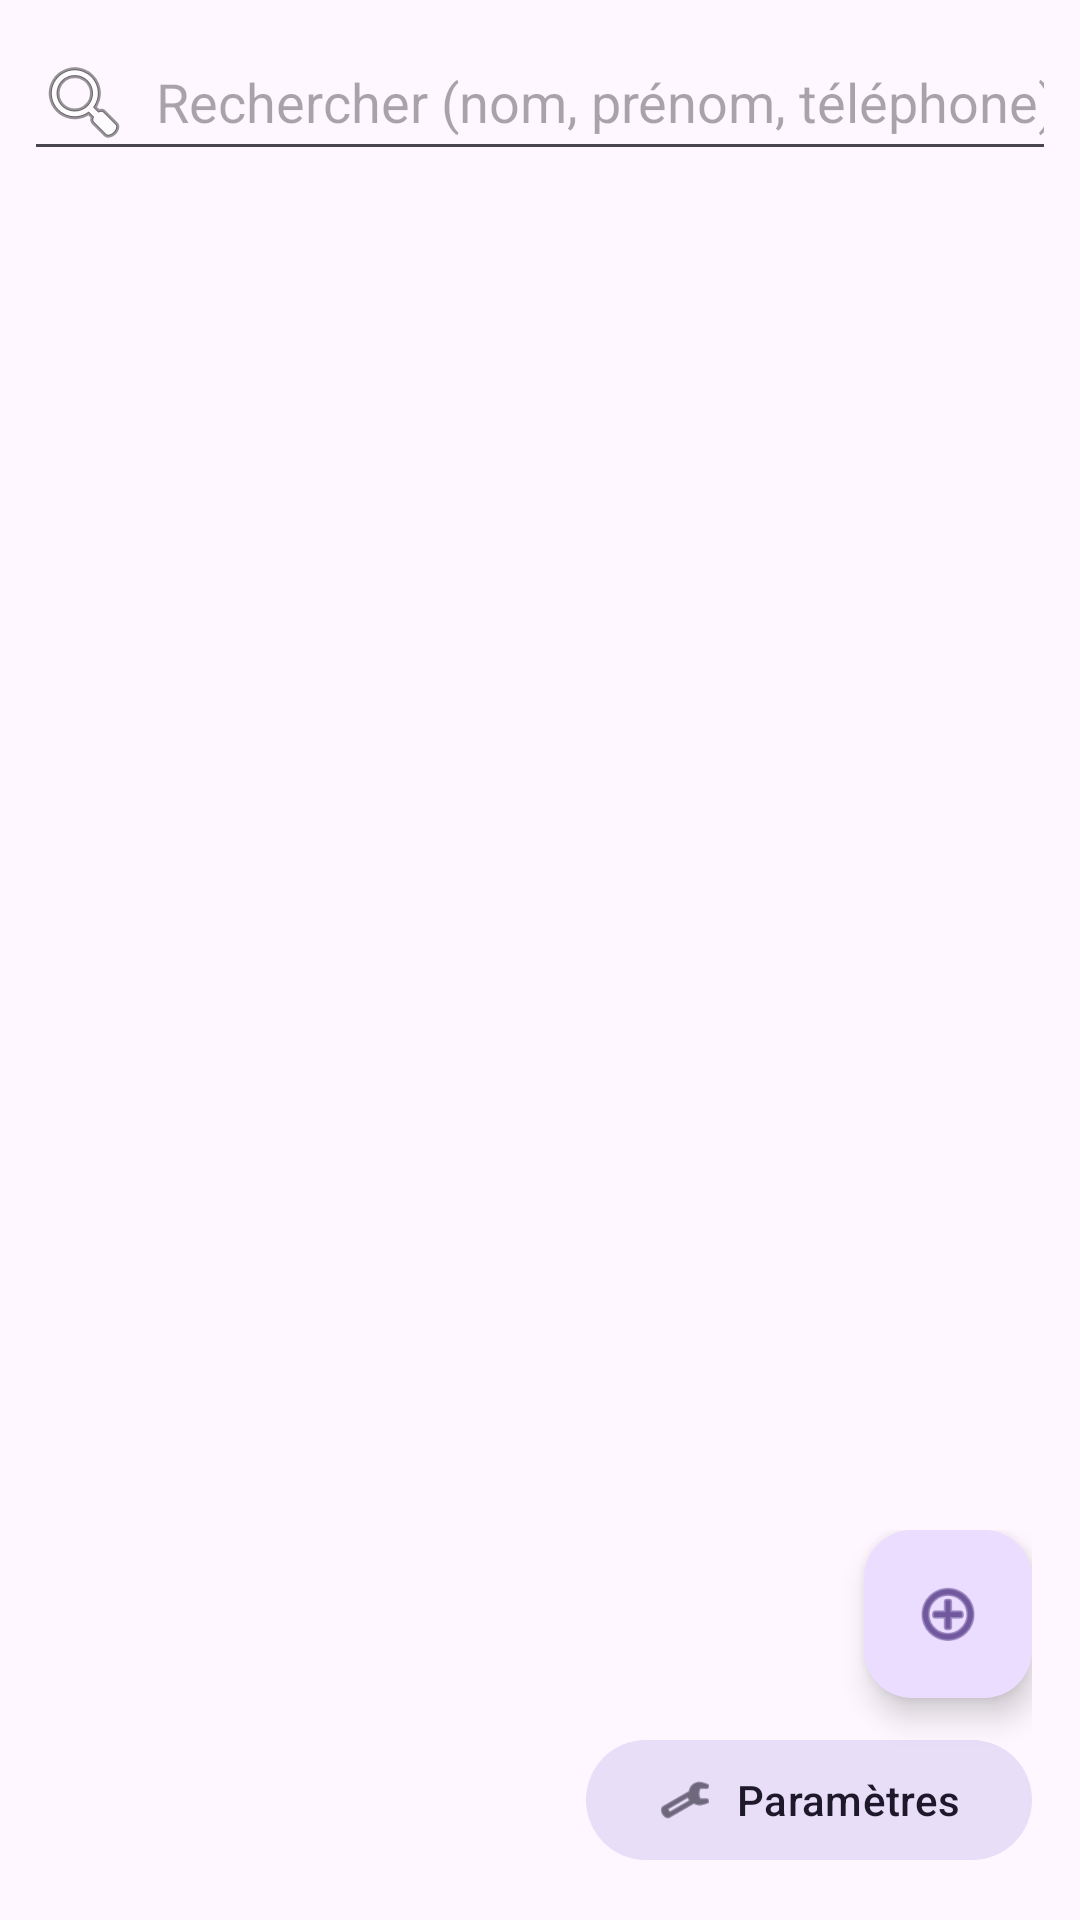

Locate icon controls on the screen. Image size 1080w x 1920h, boxes as (x1, y1, x2, y2).
Nouveau contact: (864, 1530, 1032, 1698)
